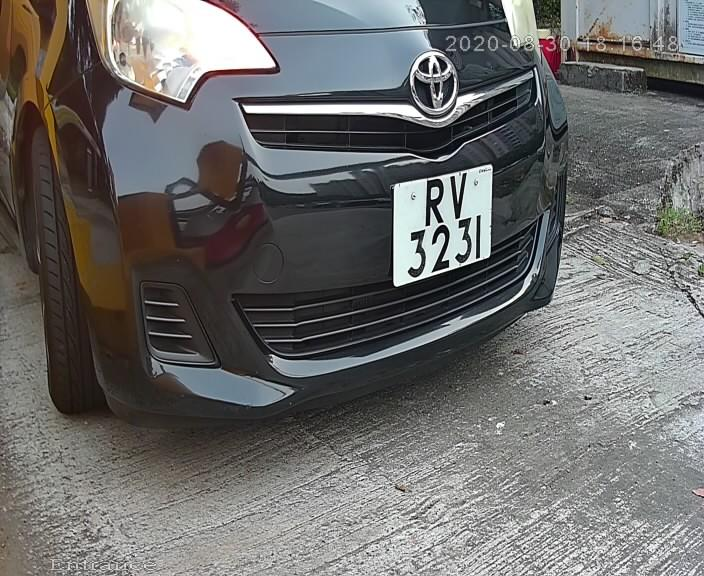Car: (10, 6, 607, 453)
License Plate: (384, 157, 500, 296)
